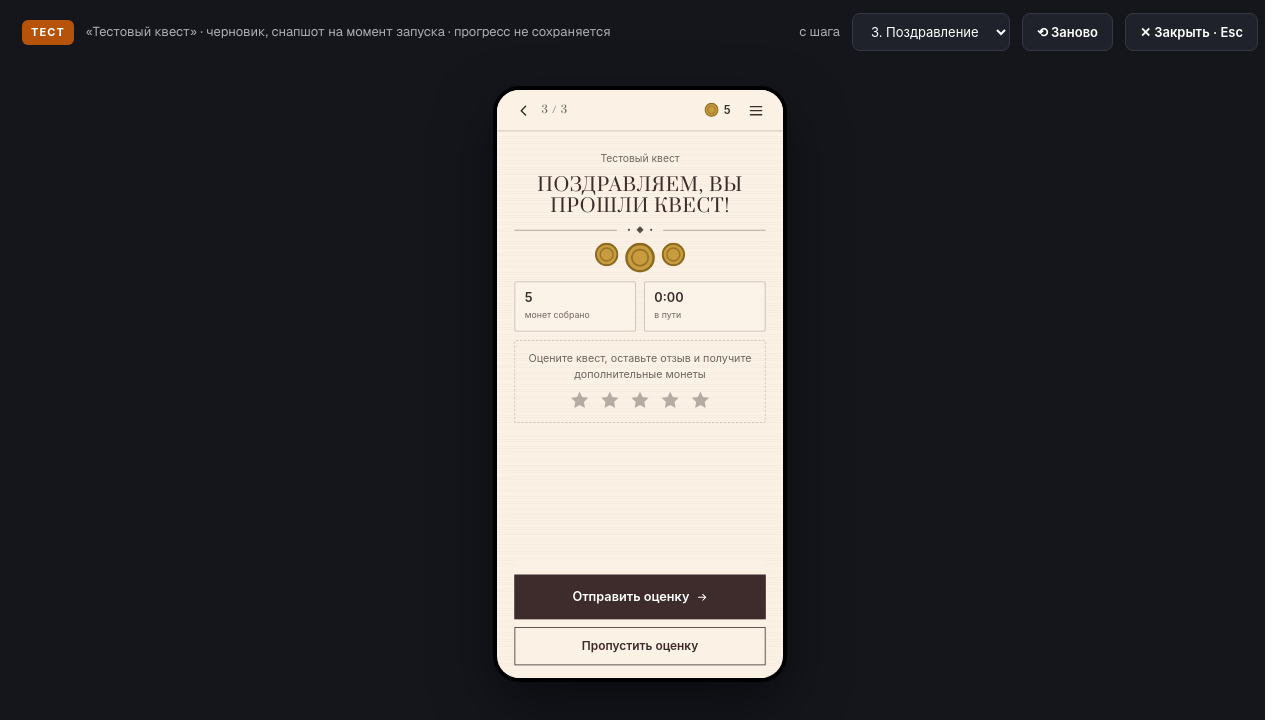
Test: конструкторский тест-игрок: финал › «Пропустить оценку» не мёртвая кнопка — тест завершается
Click the button "Пропустить оценку". click: click(640, 646)
box: [514, 627, 766, 665]
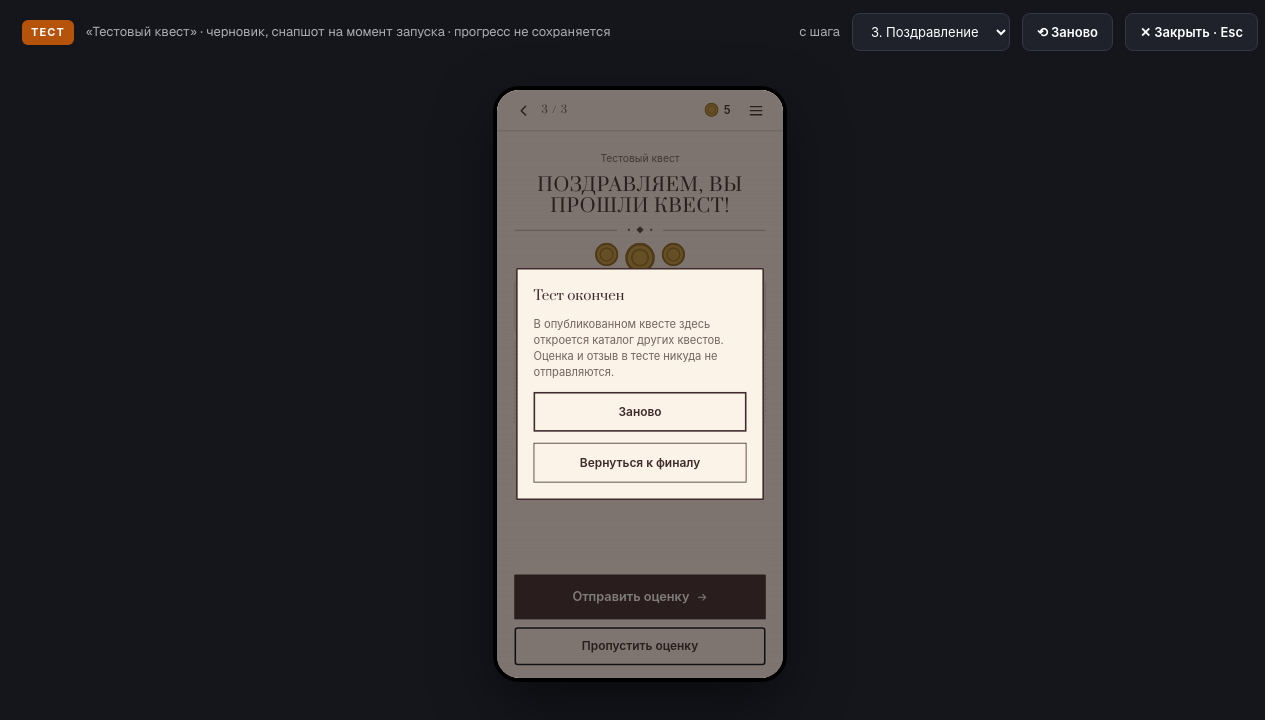
Expected: the text "Тест окончен" is shown, [534, 287, 624, 305]
